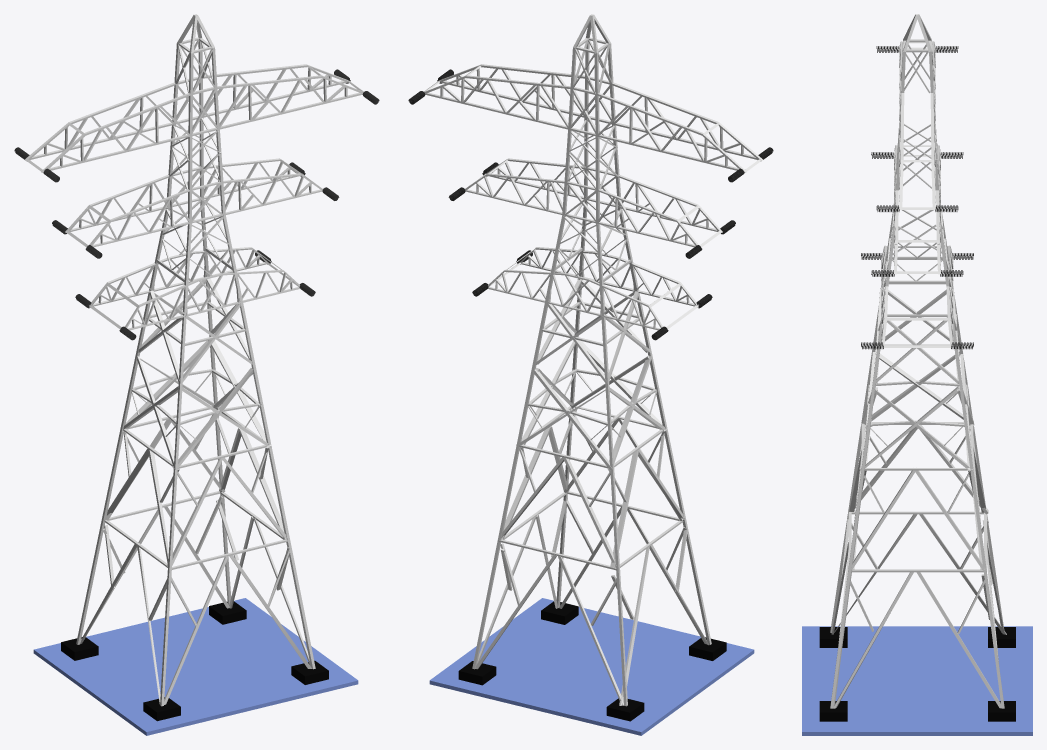
Rendered from Tower.fbx.
3 views of the same model, side by side, from view 1: azimuth 30°, elevation 25°; view 2: azimuth 150°, elevation 25°; view 3: azimuth 270°, elevation 25° (orthographic). The views are drawn at different scales.
Parts seen in each view (by area): view 1: Tower, Floor, Base; view 2: Tower, Floor, Base; view 3: Tower, Floor, Base, Insulator.001, Insulator.002, Insulator.003.
Part boxes in pixels (x1,y1,x2,y2): Tower: (25,14,363,706); Floor: (33,598,358,735); Base: (61,601,328,721); Tower: (424,14,762,706); Floor: (429,598,754,735); Base: (458,601,726,721); Tower: (830,14,1006,708); Floor: (802,626,1032,735); Base: (819,627,1015,721); Insulator.001: (876,46,958,211); Insulator.002: (871,152,963,276); Insulator.003: (861,253,973,349).
Bounding box in the file's own units: 2742 × 5250 × 1642.
